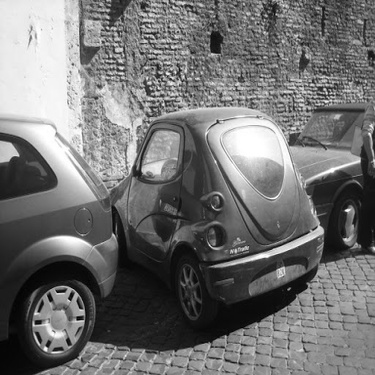car: (104, 82, 330, 326), (1, 110, 120, 351), (285, 63, 364, 257)
